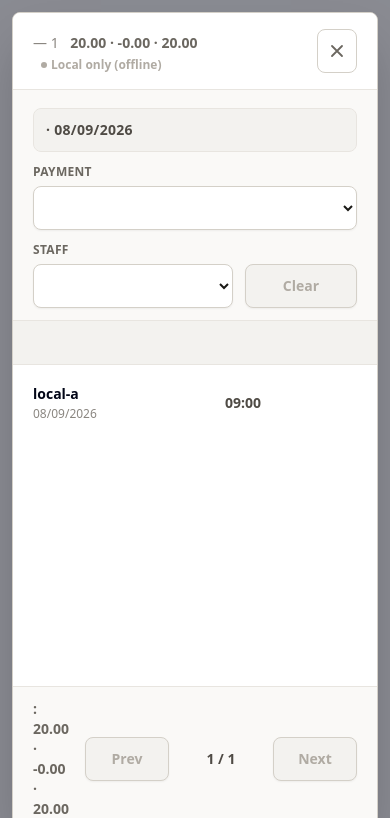
actual shared history screen › does not label an old server mirror default course as proven historical metadata
Step 1. Click the button "local-a 08/09/2026 09:00 20.00 Cashier" → [56, 394], box 13,365 -> 377,441
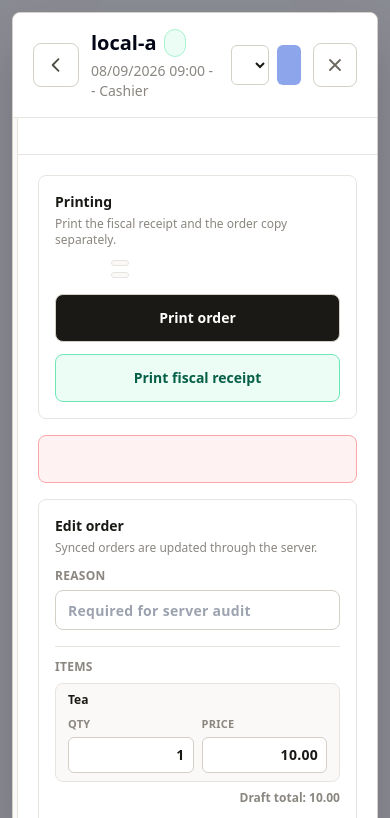
Expected: the text "Tea" is shown, 68,691 -> 88,708
